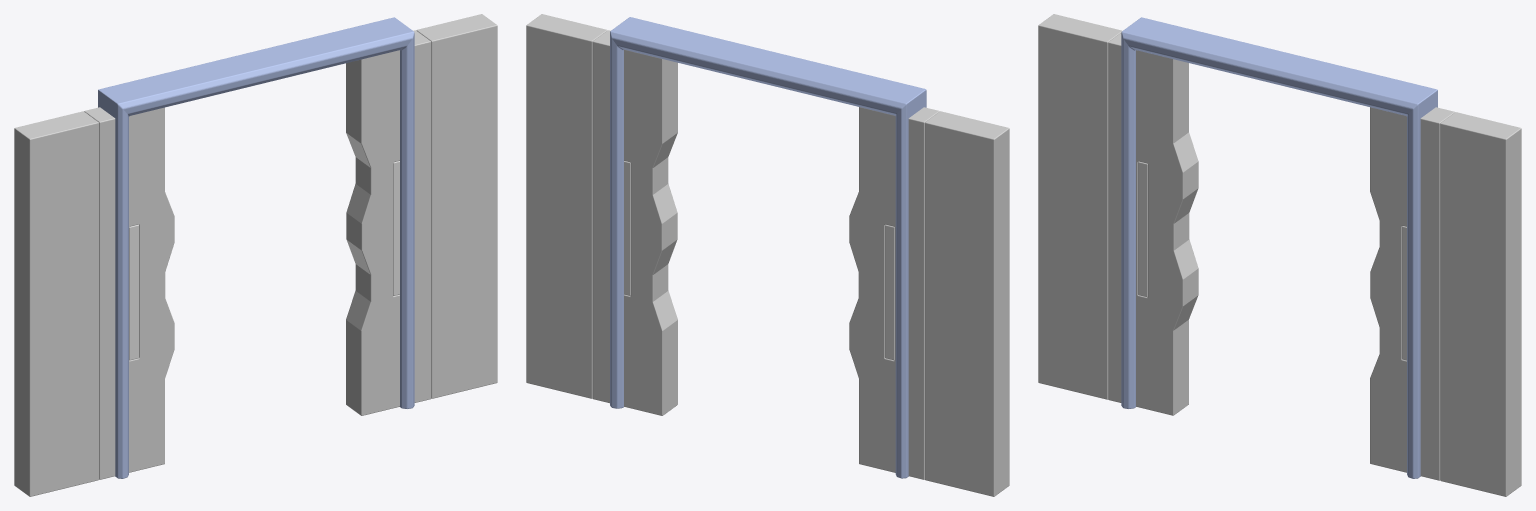
File: elevator_door2_animated.fbx
3 views of the same model, side by side, from view 1: azimuth 30°, elevation 25°; view 2: azimuth 150°, elevation 25°; view 3: azimuth 330°, elevation 25° (orthographic).
Parts seen in each view (by area): view 1: Plane.001, Plane.002, Cube; view 2: Plane.001, Plane.002, Cube; view 3: Plane.001, Plane.002, Cube.
Part boxes in pixels (<box>): Plane.001: <box>14,107,174,496</box>; Plane.002: <box>346,14,497,415</box>; Cube: <box>98,17,414,478</box>; Plane.001: <box>849,107,1009,496</box>; Plane.002: <box>526,14,677,415</box>; Cube: <box>610,17,926,478</box>; Plane.001: <box>1038,14,1198,415</box>; Plane.002: <box>1370,107,1521,496</box>; Cube: <box>1121,17,1437,478</box>.
Bounding box in the file's own units: 474 × 363 × 40.95.
